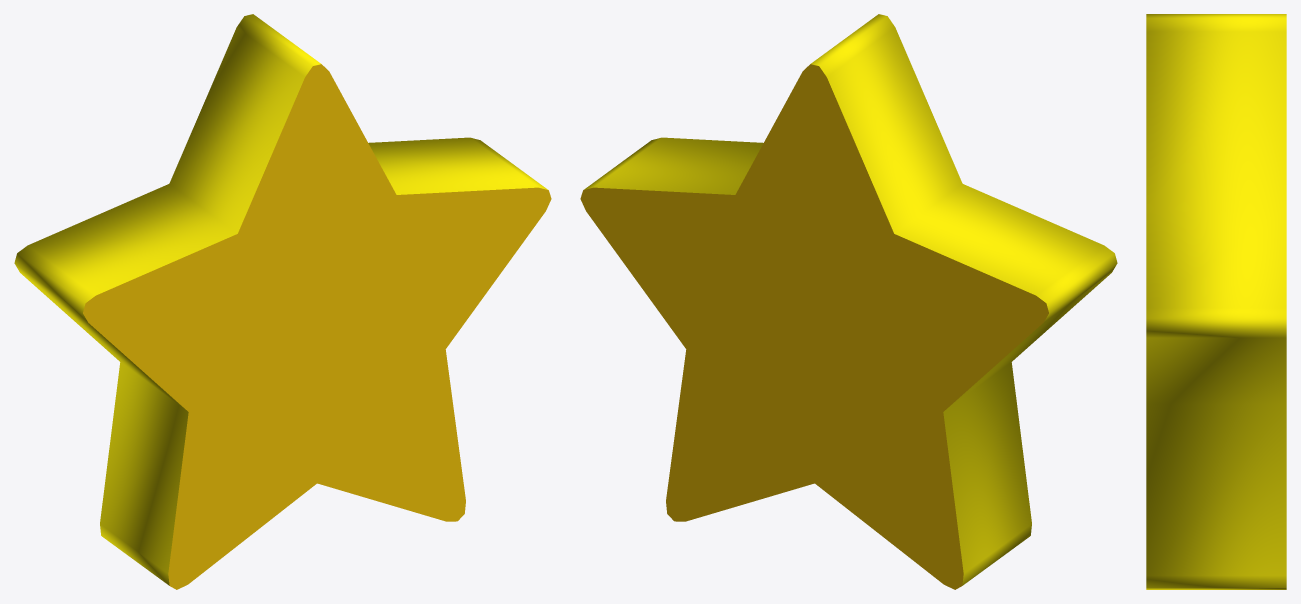
The model's file is star.glb.
The picture shows the model from 3 angles, left to right: view 1: azimuth 30°, elevation 25°; view 2: azimuth 150°, elevation 25°; view 3: azimuth 270°, elevation 25°; orthographic projection. The views are drawn at different scales.
Visible parts, largest first — view 1: star; view 2: star; view 3: star.
Part boxes in pixels (x1=…): star: x1=14, y1=14, x2=551, y2=589; star: x1=580, y1=14, x2=1117, y2=589; star: x1=1146, y1=14, x2=1286, y2=589.
Bounding box in the file's own units: 1.19 × 1.19 × 0.3.
Materials: 1 (1 with a texture image).
